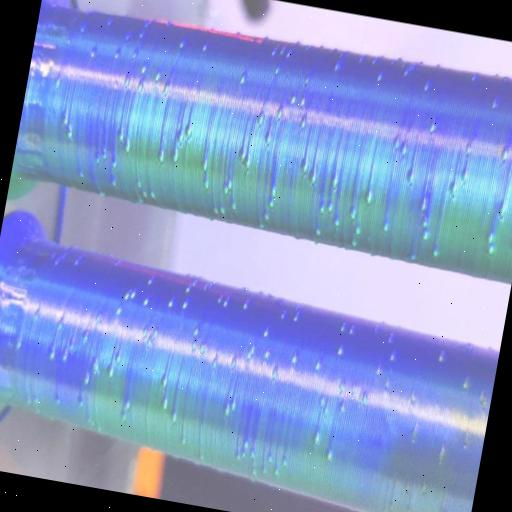blobs: (322, 442, 342, 468), (118, 134, 136, 156), (358, 185, 376, 206), (457, 160, 472, 184), (43, 342, 59, 362), (308, 425, 322, 447), (306, 164, 322, 183), (218, 178, 234, 196), (296, 152, 311, 171), (90, 153, 106, 170), (371, 68, 388, 83), (71, 252, 86, 269), (109, 43, 124, 60), (426, 120, 440, 138), (174, 32, 188, 50), (434, 347, 448, 365), (62, 124, 76, 142), (76, 18, 90, 36), (106, 172, 120, 190), (172, 128, 187, 144), (122, 286, 136, 303), (51, 70, 64, 88), (243, 151, 254, 172), (444, 178, 458, 194), (420, 76, 434, 92), (228, 198, 242, 214), (216, 200, 230, 216), (196, 40, 212, 54), (487, 93, 500, 110), (134, 24, 146, 42), (403, 167, 417, 182), (398, 138, 411, 154), (273, 104, 286, 120), (329, 58, 342, 74), (385, 328, 398, 344), (73, 168, 86, 184), (90, 356, 102, 373), (81, 367, 93, 384), (154, 145, 166, 162), (418, 480, 430, 497), (60, 344, 72, 361), (98, 148, 112, 162), (158, 394, 170, 410), (80, 326, 92, 342), (418, 210, 430, 226), (316, 201, 328, 217), (298, 114, 310, 130), (255, 110, 267, 126), (237, 70, 249, 86), (182, 122, 194, 138), (150, 66, 162, 82), (134, 78, 146, 94), (114, 129, 126, 145), (54, 316, 66, 332), (73, 392, 85, 408), (335, 400, 349, 413), (226, 396, 239, 410), (220, 402, 233, 416), (498, 146, 511, 160), (387, 349, 399, 364), (496, 201, 508, 216), (484, 228, 496, 243), (290, 309, 303, 322), (348, 206, 360, 220), (262, 210, 274, 224), (484, 240, 496, 254), (435, 445, 447, 459), (160, 372, 170, 388), (169, 406, 179, 422), (262, 126, 272, 142), (238, 144, 248, 160), (282, 45, 292, 61), (268, 182, 278, 198), (208, 202, 218, 218), (110, 155, 120, 171), (270, 63, 282, 76), (199, 176, 212, 188), (52, 392, 64, 405), (278, 306, 289, 320), (352, 222, 363, 236), (122, 397, 134, 409), (146, 273, 158, 285), (418, 196, 430, 208), (168, 151, 180, 163), (132, 175, 144, 187), (334, 343, 345, 356), (112, 305, 123, 318), (312, 358, 322, 372), (316, 392, 326, 406), (214, 290, 224, 304), (325, 200, 335, 214), (296, 94, 306, 108), (119, 410, 129, 424), (178, 430, 188, 444), (372, 364, 382, 378), (459, 377, 469, 391), (241, 298, 252, 310), (336, 321, 348, 332), (190, 326, 201, 338), (431, 246, 442, 258), (267, 45, 279, 56), (468, 72, 479, 84), (122, 30, 133, 42), (392, 133, 402, 146), (104, 15, 114, 28), (113, 350, 122, 364), (421, 226, 430, 240), (333, 216, 344, 227), (322, 404, 332, 416), (260, 328, 270, 340), (209, 356, 219, 368), (180, 296, 190, 308), (106, 366, 116, 378), (381, 220, 391, 232), (288, 92, 298, 104), (200, 156, 210, 168), (266, 194, 276, 206), (59, 113, 69, 125), (10, 338, 22, 348), (138, 60, 146, 74), (88, 44, 96, 58), (240, 438, 250, 449), (288, 351, 298, 362), (220, 297, 230, 308), (160, 84, 170, 95), (229, 356, 238, 368), (280, 454, 288, 466), (166, 296, 174, 308), (140, 184, 148, 196), (148, 186, 156, 197), (272, 466, 280, 476), (266, 452, 274, 462), (507, 237, 512, 253), (260, 462, 266, 474), (264, 348, 272, 357), (249, 448, 256, 458), (240, 450, 248, 458), (144, 298, 150, 305)
